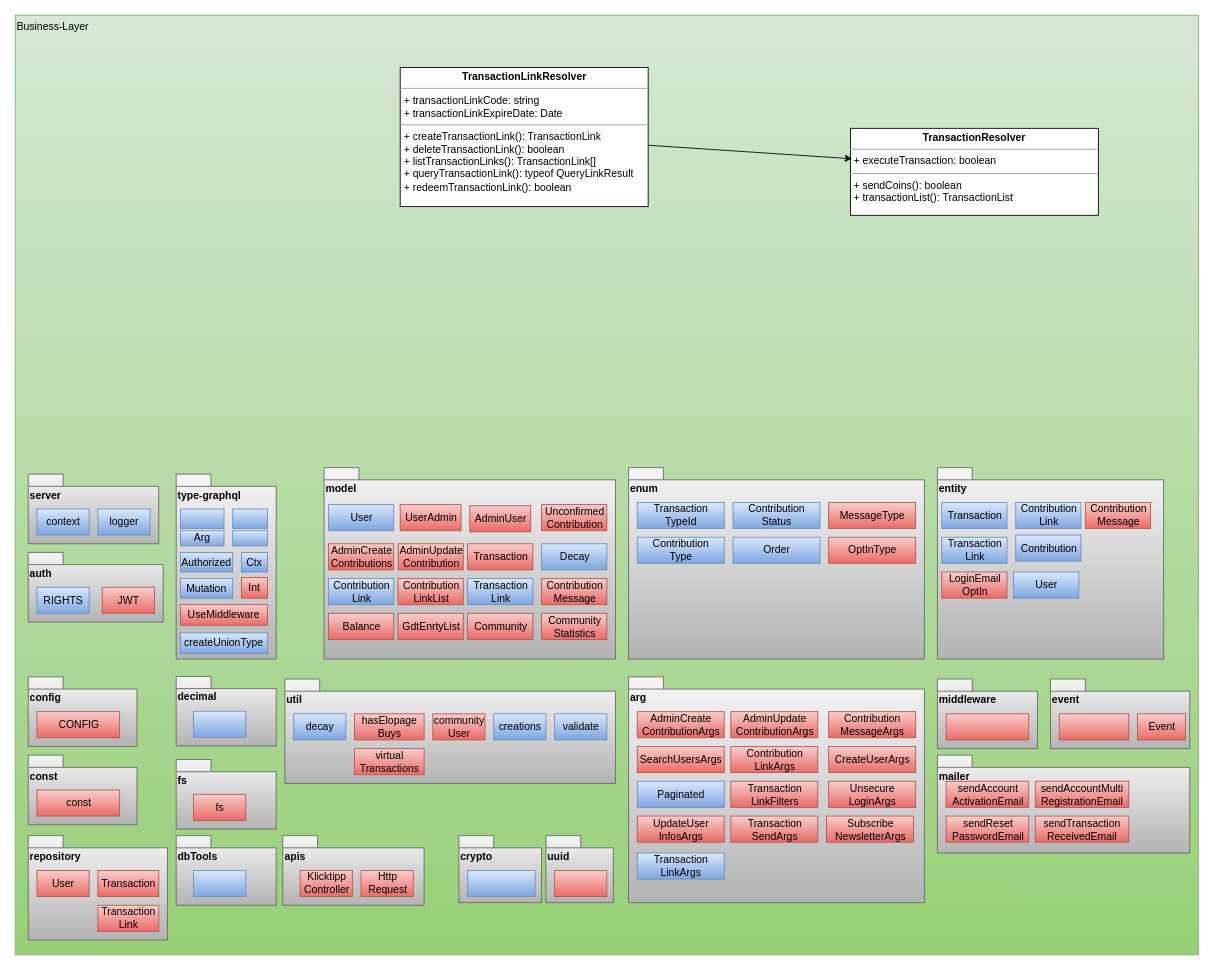
Image size: 1214x970. Some labels were removed from this diagram. The shapes that lost their labels are listed below. From the top down, each one's centre as x and y in pixels, then its label:
pixel 202 518: Resolver
pixel 250 518: Query
pixel 250 538: Args
pixel 219 723: js-light
pixel 987 726: klicktipp Middleware
pixel 1093 726: EventProtocol Emitter
pixel 219 883: typeorm
pixel 501 883: randomBytes
pixel 580 883: v4
